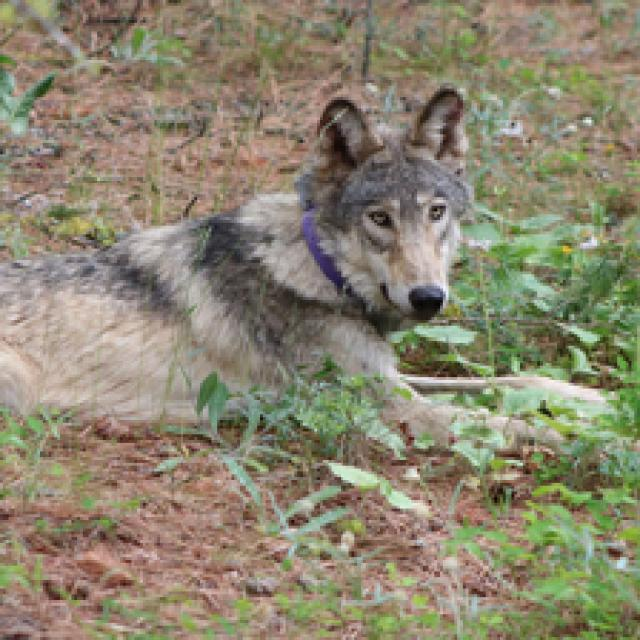wolf: (0, 56, 566, 482)
